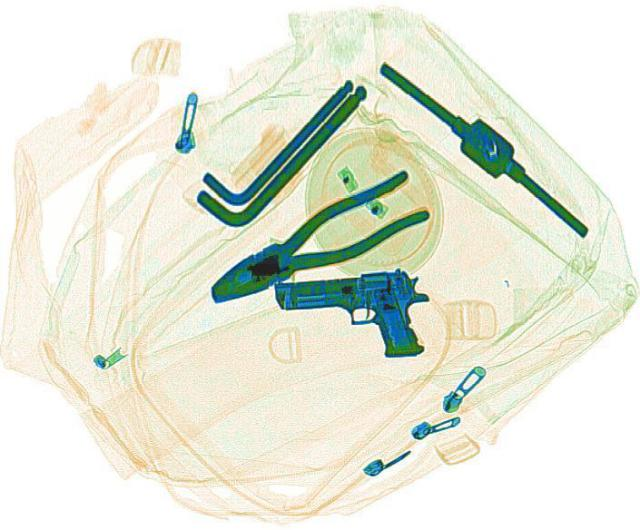Gun: (271, 264, 433, 362)
Pliers: (189, 165, 441, 319)
